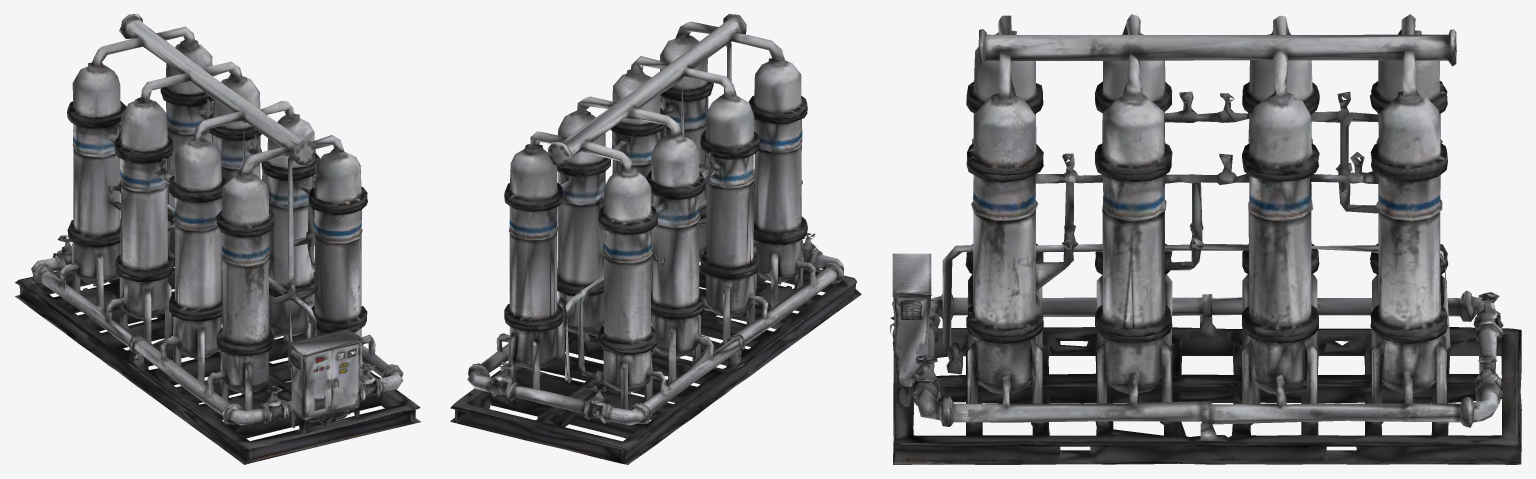
The model's file is filterBank.glb.
The picture shows the model from 3 angles, left to right: view 1: azimuth 30°, elevation 25°; view 2: azimuth 150°, elevation 25°; view 3: azimuth 270°, elevation 25°; orthographic projection. The views are drawn at different scales.
Parts seen in each view (by area): view 1: filterBank; view 2: filterBank; view 3: filterBank.
Part boxes in pixels (x1,y1,x2,y2): filterBank: (15,14,420,464); filterBank: (450,14,861,464); filterBank: (890,14,1521,464).
Bounding box in the file's own units: 2.92 × 4.3 × 6.5.
Materials: 1 (1 with a texture image).
